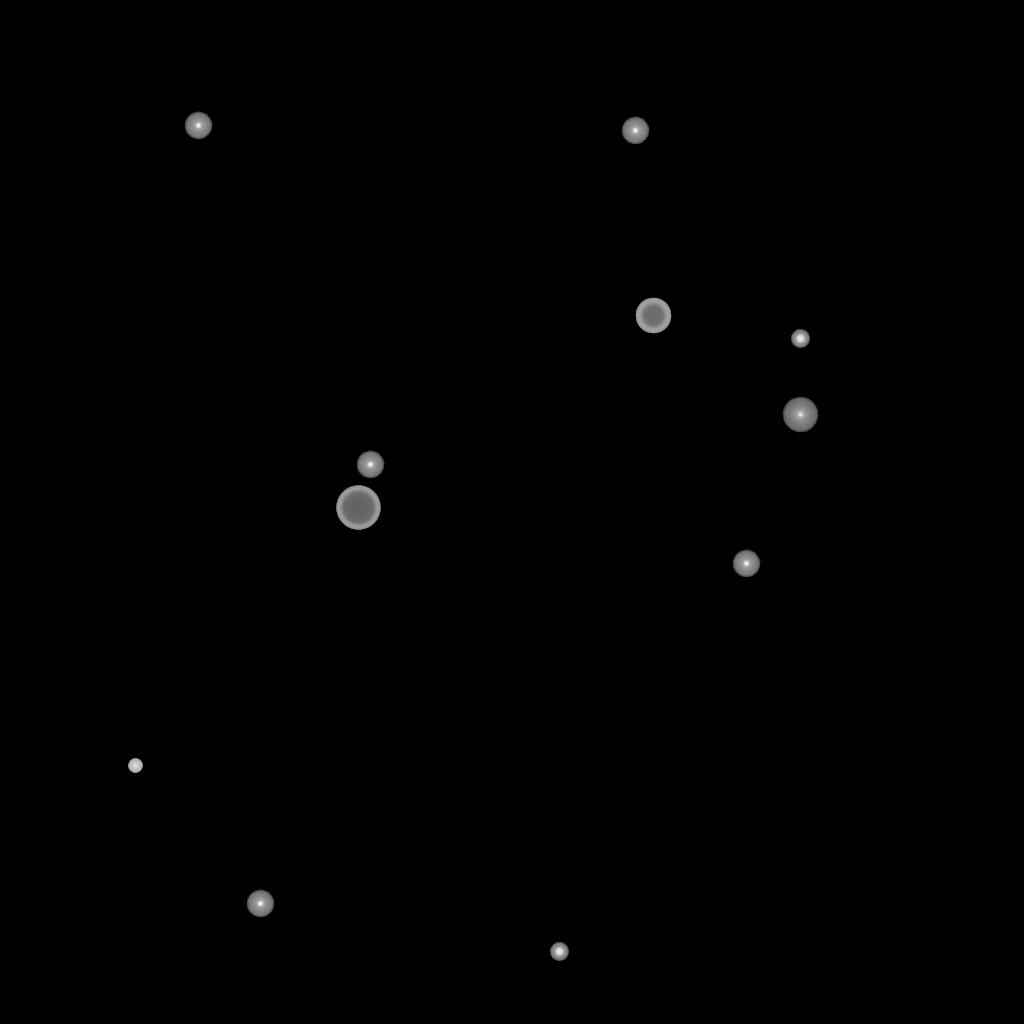depth:-10: (732, 550, 760, 578), (356, 451, 384, 479), (246, 890, 274, 918), (621, 117, 649, 145), (184, 112, 212, 140)
depth:-20: (550, 943, 568, 961), (791, 330, 809, 348)
depth:-30: (128, 759, 142, 773)
depth:-60: (635, 298, 671, 334)
depth:-70: (336, 486, 380, 530)
depth:0: (782, 397, 818, 433)
